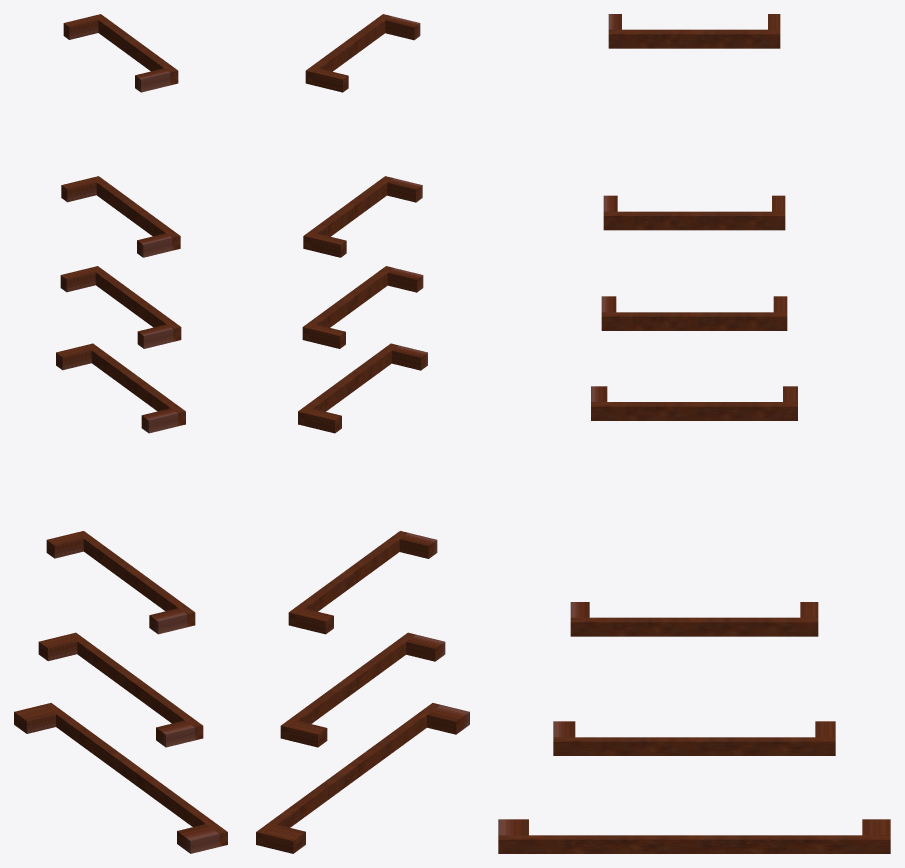
The model's file is LADDER texture.fbx.
3 renders of one model, left to right at view 1: azimuth 30°, elevation 25°; view 2: azimuth 150°, elevation 25°; view 3: azimuth 270°, elevation 25°, orthographic. The views are drawn at different scales.
Visible parts, largest first — view 1: ladder11; view 2: ladder11; view 3: ladder11.
Part boxes in pixels (x1,y1,x2,y2): ladder11: (14,14,227,853); ladder11: (256,14,469,853); ladder11: (498,14,890,853).
Bounding box in the file's own units: 0.8498 × 16.08 × 6.98.
